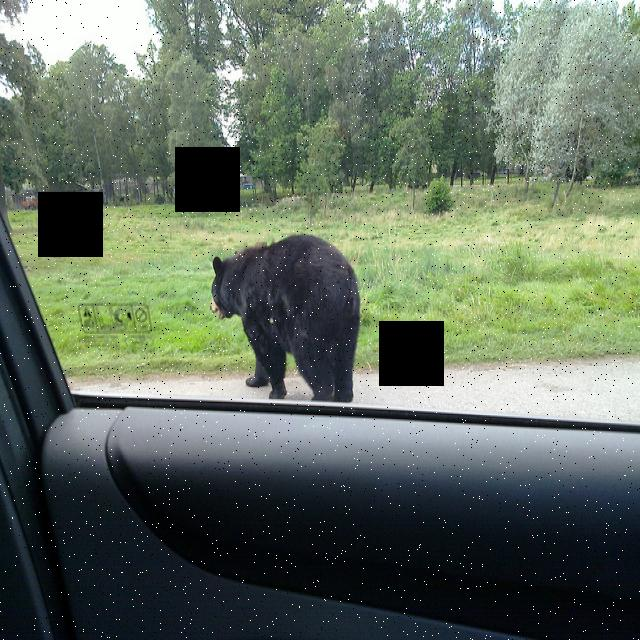Bear: (201, 229, 367, 408)
